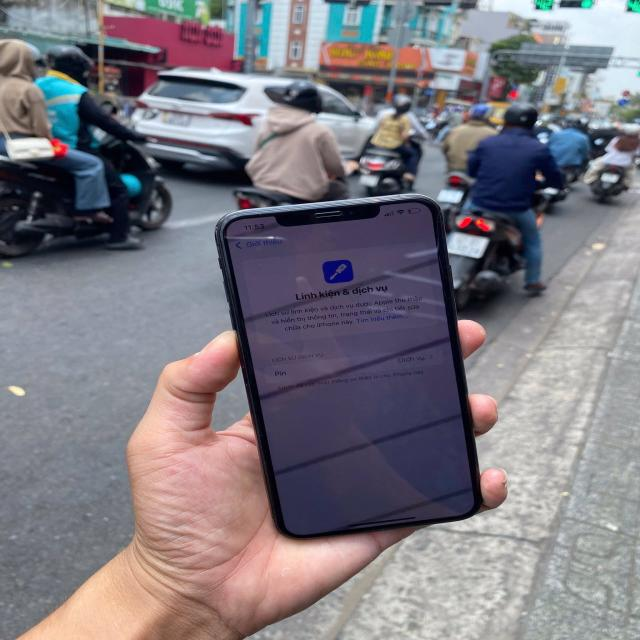physical_damage: (433, 215, 441, 255)
scratch: (215, 225, 219, 245), (240, 362, 246, 368), (244, 383, 249, 387)
